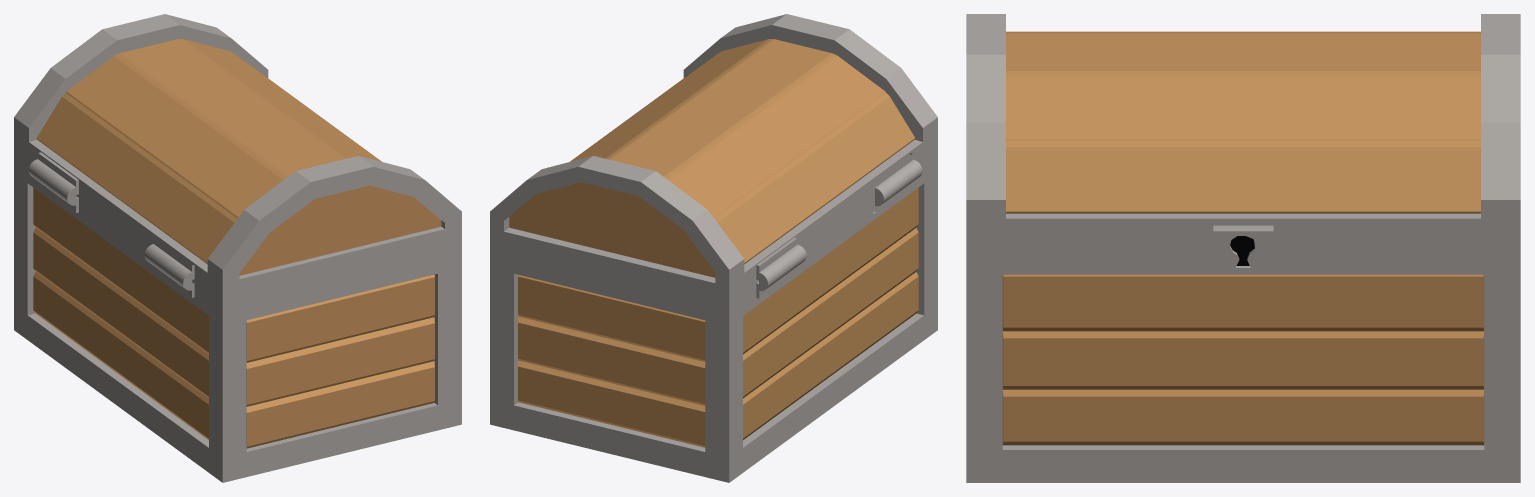
The model's file is Chest.glb.
3 renders of one model, left to right at view 1: azimuth 30°, elevation 25°; view 2: azimuth 150°, elevation 25°; view 3: azimuth 270°, elevation 25°, orthographic. The views are drawn at different scales.
Visible parts, largest first — view 1: Chest; view 2: Chest; view 3: Chest.
Part boxes in pixels (left/top/right/bottom): Chest: left=14, top=14, right=461, bottom=482; Chest: left=490, top=14, right=937, bottom=482; Chest: left=966, top=14, right=1520, bottom=482.
Bounding box in the file's own units: 2.99 × 3.07 × 4.16.
